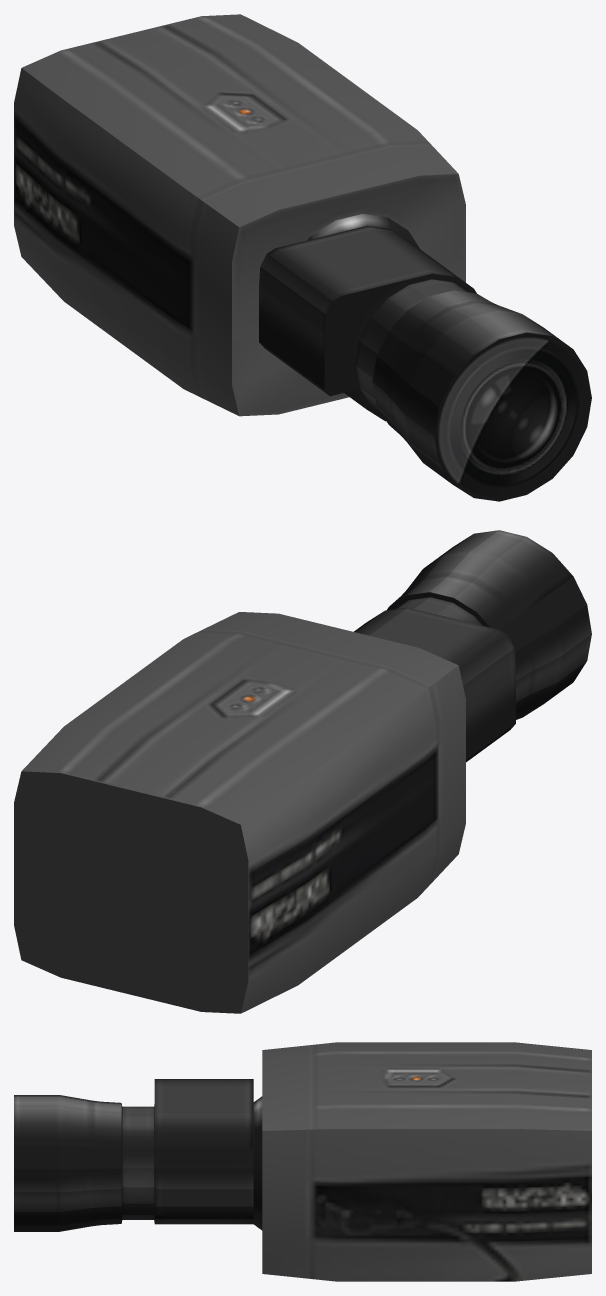
The model's file is cctvNbx2201.gltf.
3 views of the same model, one above another, from view 1: azimuth 30°, elevation 25°; view 2: azimuth 150°, elevation 25°; view 3: azimuth 270°, elevation 25° (orthographic). The views are drawn at different scales.
Parts seen in each view (by area): view 1: cctvNbx2201; view 2: cctvNbx2201; view 3: cctvNbx2201.
Boxes of the visible parts, left/top/right/bottom form: cctvNbx2201: left=14, top=14, right=591, bottom=501; cctvNbx2201: left=14, top=530, right=591, bottom=1013; cctvNbx2201: left=14, top=1042, right=591, bottom=1281.
Bounding box in the file's own units: 0.815 × 0.68 × 2.16.
1 material, 1 textured.
